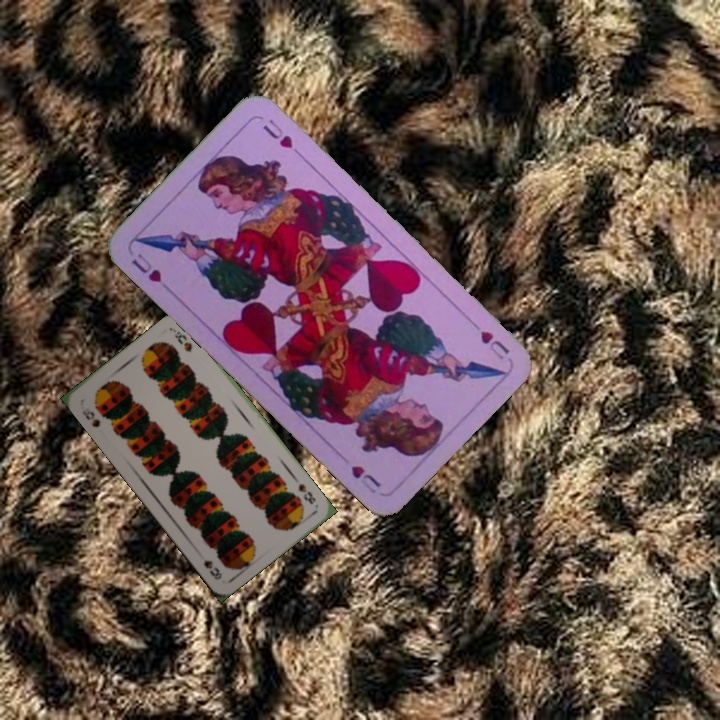HU: (465, 316, 513, 363), (127, 249, 164, 285)
S8: (293, 479, 319, 507), (78, 404, 103, 430)
